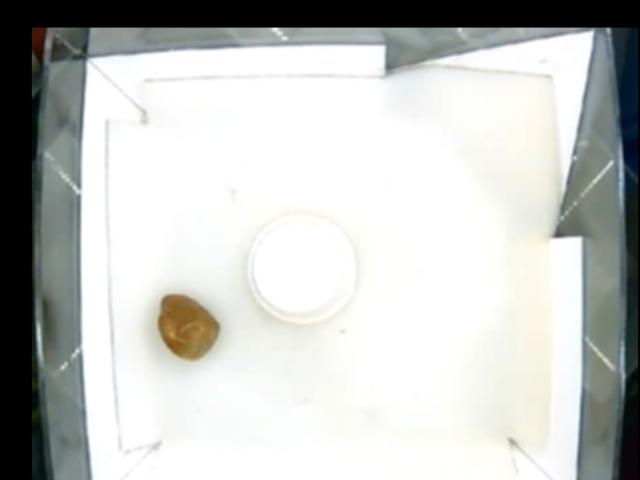Cup: (248, 215, 357, 324)
Pebble: (154, 292, 218, 363)
